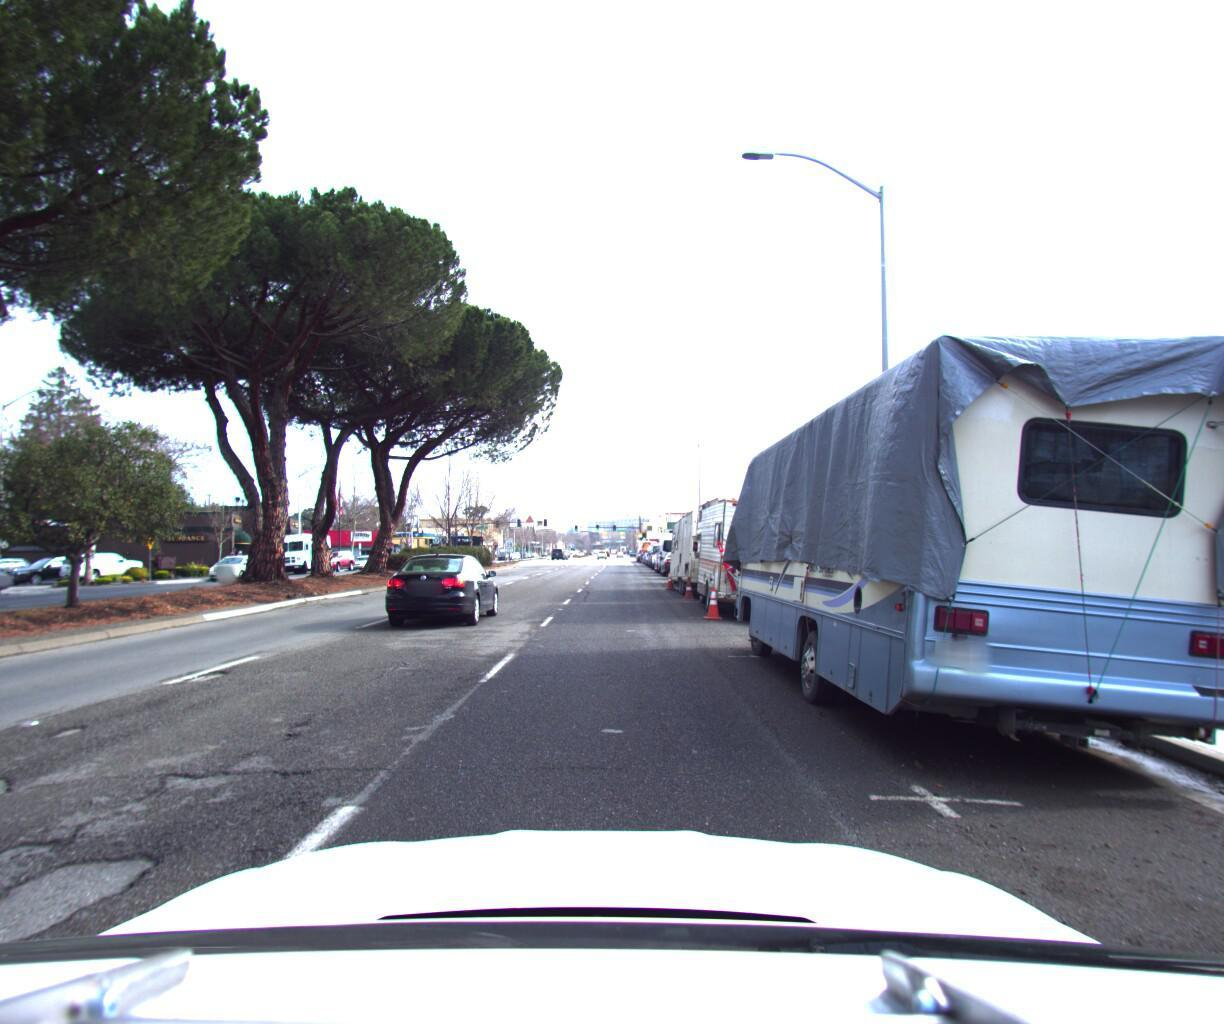car: (380, 543, 506, 625), (58, 542, 155, 574), (3, 551, 98, 578), (654, 523, 692, 568), (207, 545, 269, 571), (0, 556, 22, 598), (350, 546, 381, 562)
other_vehicle: (725, 311, 1224, 830), (691, 475, 857, 625), (669, 498, 780, 599)
truck: (266, 525, 336, 569)
